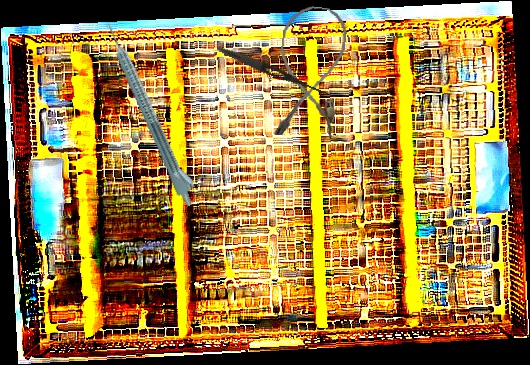Cannula: (270, 3, 350, 142)
Dressing Forceps: (215, 43, 331, 99)
Handpiece: (102, 18, 204, 209)
